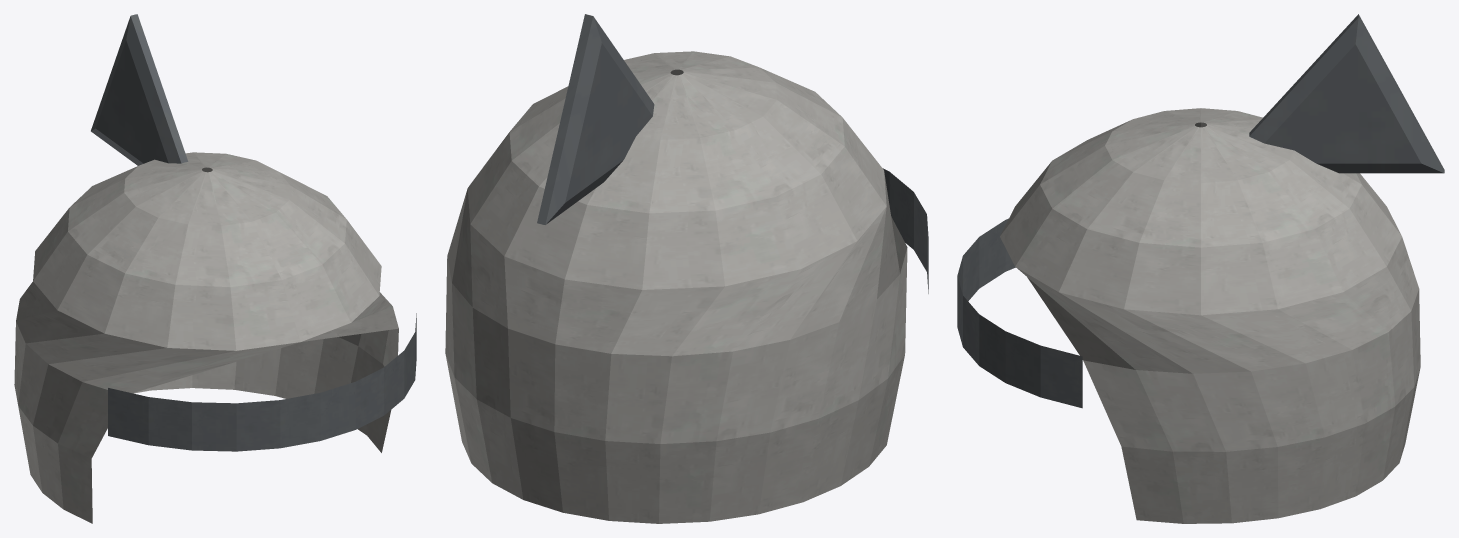
File: eq_future_1_head.glb
The picture shows the model from 3 angles, left to right: view 1: azimuth 30°, elevation 25°; view 2: azimuth 150°, elevation 25°; view 3: azimuth 270°, elevation 25°; orthographic projection. The views are drawn at different scales.
Parts seen in each view (by area): view 1: eq_future_1_head; view 2: eq_future_1_head; view 3: eq_future_1_head.
Boxes of the visible parts, box(x1,y1,x2,y2) form: eq_future_1_head: box(14, 14, 416, 523); eq_future_1_head: box(445, 14, 928, 523); eq_future_1_head: box(957, 14, 1444, 523).
Size of the model in its own units: 0.2821 by 0.33 by 0.34.
Materials: 2 (2 with a texture image).
